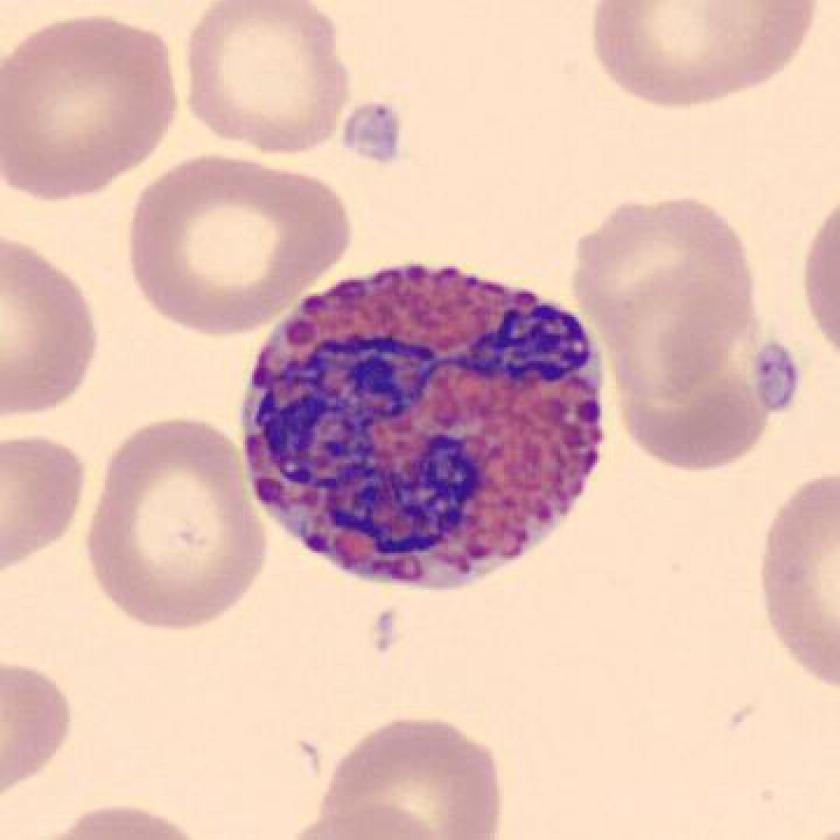eosinophil: (237, 246, 629, 605)
